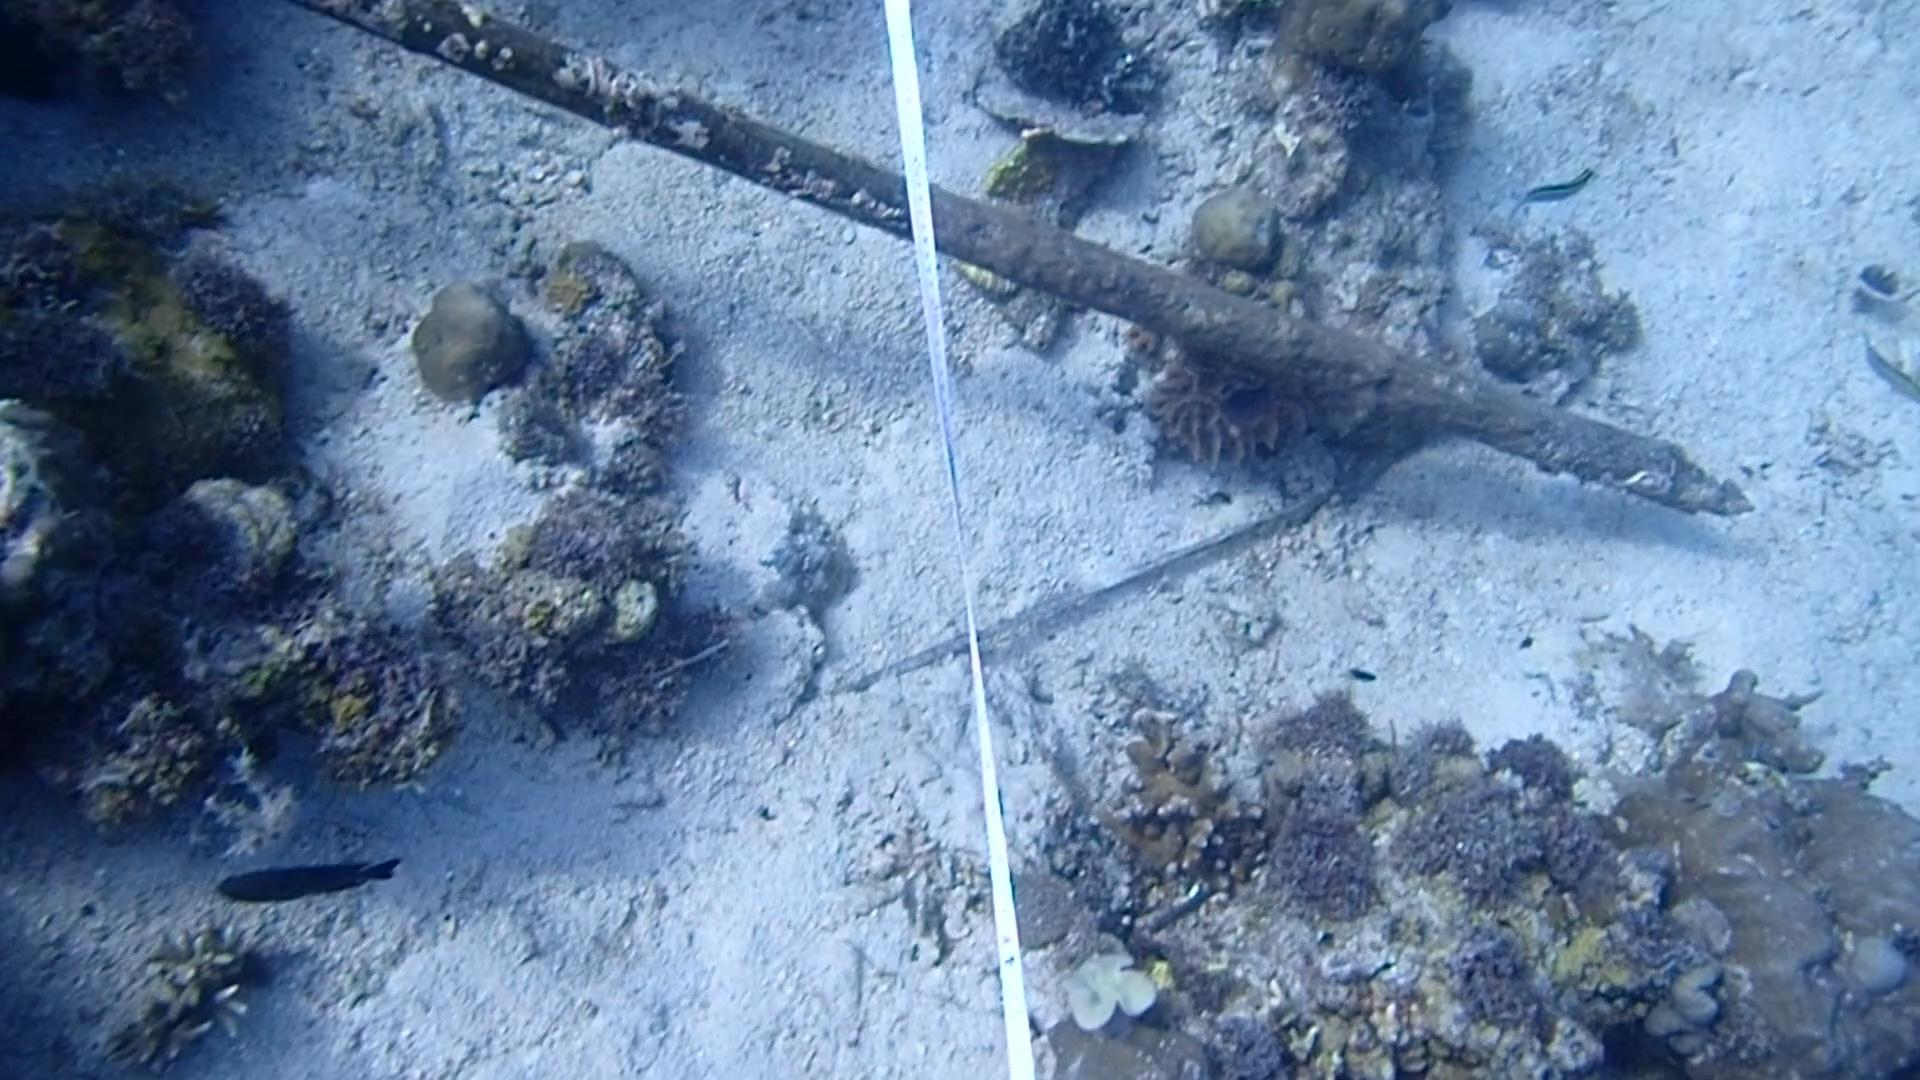Dark Fish: (207, 847, 410, 914)
Striped Fish: (1853, 332, 1920, 410), (1518, 160, 1602, 222)
